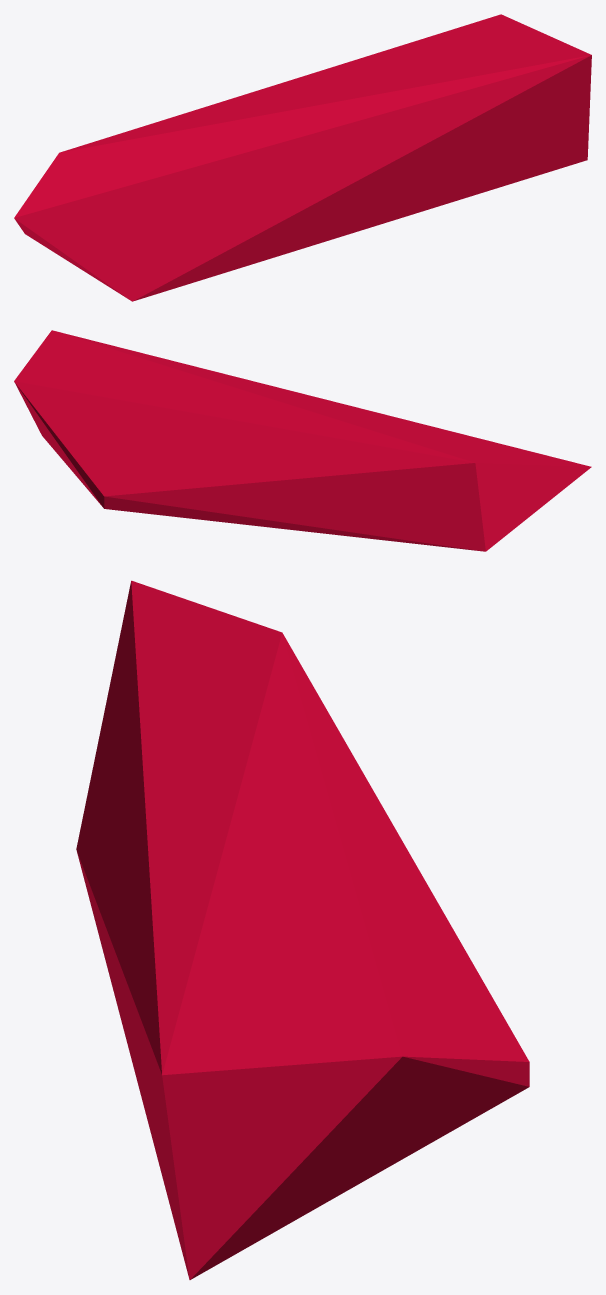
Rendered from coffee_convex_piece_026.obj.
3 views of the same model, one above another, from view 1: azimuth 30°, elevation 25°; view 2: azimuth 150°, elevation 25°; view 3: azimuth 270°, elevation 25° (orthographic). The views are drawn at different scales.
Bounding box in the file's own units: 0.00036 × 6.5e-05 × 0.000132.
